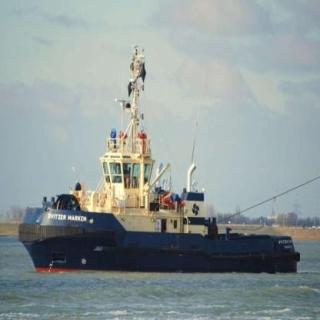Tug Boat: (14, 52, 291, 270)
